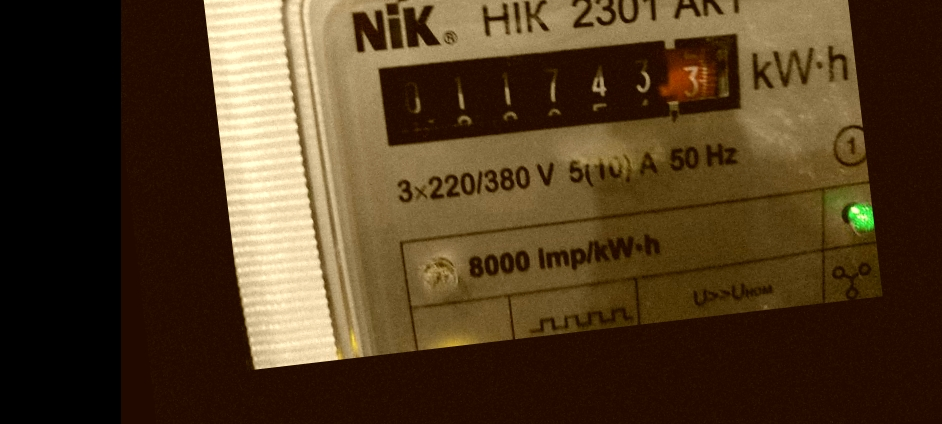0: (399, 77, 425, 118), (448, 70, 471, 113)
1: (495, 66, 516, 109)
3: (630, 53, 655, 98), (679, 60, 703, 100)
4: (585, 58, 610, 100)
7: (538, 60, 566, 107)
screen: (357, 12, 755, 163)
